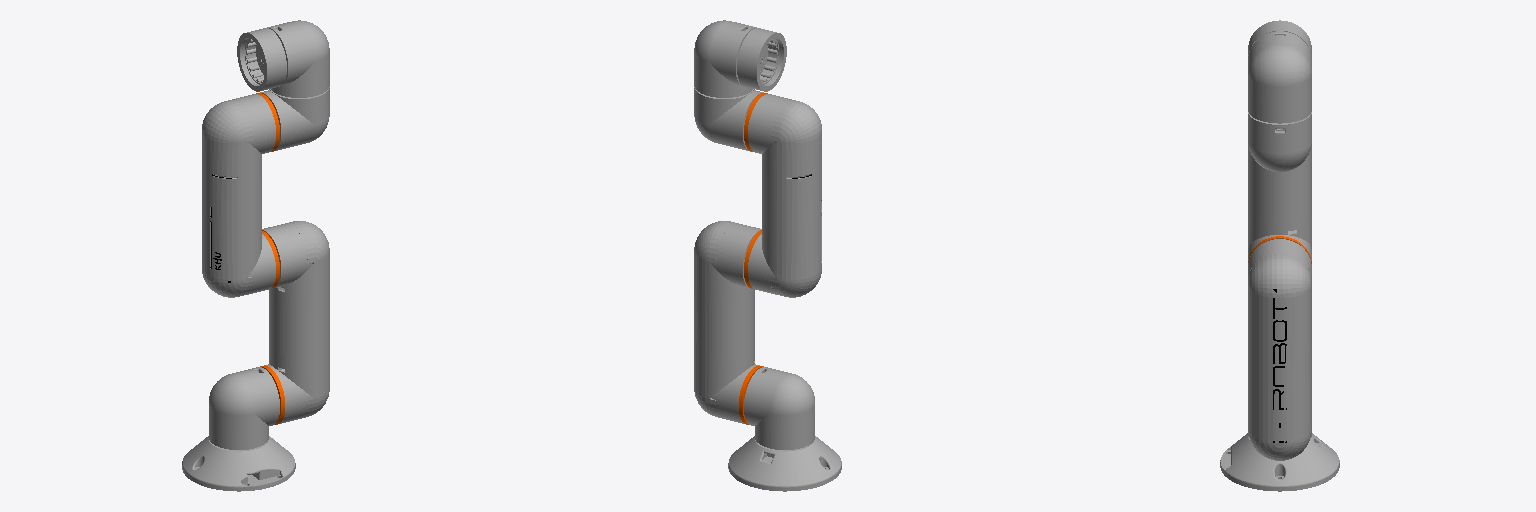
URDF robot description (6dof):
<?xml version="1.0" ?>
<robot name="6dof">
  <mujoco>
    <compiler meshdir="../meshes/" balanceinertia="true" discardvisual="false"/>
  </mujoco>


<material name="silver">
  <color rgba="0.700 0.700 0.700 1.000"/>
</material>

<material name="black">
  <color rgba="0.020 0.020 0.020 1.000"/>
</material>

<material name="orange">
  <color rgba="1.000 0.420 0.000 1.000"/>
</material>

<link name="base_link">
  <inertial>
    <origin xyz="0.0005722199975482752 0.004245800700454947 0.016568477430291967" rpy="0 0 0"/>
    <mass value="0.3701294923763933"/>
    <inertia ixx="0.000519" iyy="0.000543" izz="0.000945" ixy="3e-06" iyz="4e-06" ixz="0.0"/>
  </inertial>
  <visual>
    <origin xyz="0 0 0" rpy="0 0 0"/>
    <geometry>
      <mesh filename="base_link.stl" scale="0.001 0.001 0.001"/>
    </geometry>
    <material name="silver"/>
  </visual>
  <collision>
    <origin xyz="0 0 0" rpy="0 0 0"/>
    <geometry>
      <mesh filename="base_link.stl" scale="0.001 0.001 0.001"/>
    </geometry>
  </collision>
</link>

<link name="r_a_1">
  <inertial>
    <origin xyz="0.010425618761527602 0.0009926626669589911 0.03864859993028837" rpy="0 0 0"/>
    <mass value="0.17693816222578793"/>
    <inertia ixx="0.000227" iyy="0.000235" izz="0.00022" ixy="-1e-06" iyz="-1e-06" ixz="-2.3e-05"/>
  </inertial>
  <visual>
    <origin xyz="-0.0 -0.002984 -0.041554" rpy="0 0 0"/>
    <geometry>
      <mesh filename="r_a_1.stl" scale="0.001 0.001 0.001"/>
    </geometry>
    <material name="silver"/>
  </visual>
  <collision>
    <origin xyz="-0.0 -0.002984 -0.041554" rpy="0 0 0"/>
    <geometry>
      <mesh filename="r_a_1.stl" scale="0.001 0.001 0.001"/>
    </geometry>
  </collision>
</link>

<link name="link_1">
  <inertial>
    <origin xyz="0.0362299468747642 1.3495541677207516e-05 0.10093907219024545" rpy="0 0 0"/>
    <mass value="0.42379993240155933"/>
    <inertia ixx="0.003229" iyy="0.003244" izz="0.000556" ixy="0.0" iyz="0.0" ixz="4.5e-05"/>
  </inertial>
  <visual>
    <origin xyz="-0.04 -0.002984 -0.092054" rpy="0 0 0"/>
    <geometry>
      <mesh filename="link_1_engraved.stl" scale="0.001 0.001 0.001"/>
    </geometry>
    <material name="silver"/>
  </visual>
  <visual>
    <origin xyz="-0.04 -0.002984 -0.092054" rpy="0 0 0"/>
    <geometry>
      <mesh filename="link_1_engraving.stl" scale="0.001 0.001 0.001"/>
    </geometry>
    <material name="black"/>
  </visual>
  <visual>
    <origin xyz="-0.04 -0.002984 -0.092054" rpy="0 0 0"/>
    <geometry>
      <mesh filename="link_1_ring.stl" scale="0.001 0.001 0.001"/>
    </geometry>
    <material name="orange"/>
  </visual>
  <collision>
    <origin xyz="-0.04 -0.002984 -0.092054" rpy="0 0 0"/>
    <geometry>
      <mesh filename="link_1_engraved.stl" scale="0.001 0.001 0.001"/>
    </geometry>
  </collision>
  <collision>
    <origin xyz="-0.04 -0.002984 -0.092054" rpy="0 0 0"/>
    <geometry>
      <mesh filename="link_1_ring.stl" scale="0.001 0.001 0.001"/>
    </geometry>
  </collision>
</link>

<link name="link__1__1">
  <inertial>
    <origin xyz="-0.03622994687477521 -1.3274643730027368e-05 0.10093907219023918" rpy="0 0 0"/>
    <mass value="0.42379993240155933"/>
    <inertia ixx="0.003229" iyy="0.003244" izz="0.000556" ixy="0.0" iyz="-0.0" ixz="-4.5e-05"/>
  </inertial>
  <visual>
    <origin xyz="-0.04 -0.002984 -0.292054" rpy="0 0 0"/>
    <geometry>
      <mesh filename="link__1__1_engraved.stl" scale="0.001 0.001 0.001"/>
    </geometry>
    <material name="silver"/>
  </visual>
  <visual>
    <origin xyz="-0.04 -0.002984 -0.292054" rpy="0 0 0"/>
    <geometry>
      <mesh filename="link__1__1_engraving.stl" scale="0.001 0.001 0.001"/>
    </geometry>
    <material name="black"/>
  </visual>
  <visual>
    <origin xyz="-0.04 -0.002984 -0.292054" rpy="0 0 0"/>
    <geometry>
      <mesh filename="link__1__1_ring.stl" scale="0.001 0.001 0.001"/>
    </geometry>
    <material name="orange"/>
  </visual>
  <collision>
    <origin xyz="-0.04 -0.002984 -0.292054" rpy="0 0 0"/>
    <geometry>
      <mesh filename="link__1__1_engraved.stl" scale="0.001 0.001 0.001"/>
    </geometry>
  </collision>
  <collision>
    <origin xyz="-0.04 -0.002984 -0.292054" rpy="0 0 0"/>
    <geometry>
      <mesh filename="link__1__1_ring.stl" scale="0.001 0.001 0.001"/>
    </geometry>
  </collision>
</link>

<link name="r_a__1__1">
  <inertial>
    <origin xyz="0.03864887449338581 -0.0009924417690017292 0.010425344198421005" rpy="0 0 0"/>
    <mass value="0.17693816222578793"/>
    <inertia ixx="0.00022" iyy="0.000235" izz="0.000227" ixy="1e-06" iyz="1e-06" ixz="-2.3e-05"/>
  </inertial>
  <visual>
    <origin xyz="-0.04 -0.002984 -0.492054" rpy="0 0 0"/>
    <geometry>
      <mesh filename="r_a__1__1.stl" scale="0.001 0.001 0.001"/>
    </geometry>
    <material name="silver"/>
  </visual>
  <collision>
    <origin xyz="-0.04 -0.002984 -0.492054" rpy="0 0 0"/>
    <geometry>
      <mesh filename="r_a__1__1.stl" scale="0.001 0.001 0.001"/>
    </geometry>
  </collision>
</link>

<link name="r_a__2__1">
  <inertial>
    <origin xyz="-0.010425618761524535 -0.0009924417689934207 0.03864859993027925" rpy="0 0 0"/>
    <mass value="0.17693816222578793"/>
    <inertia ixx="0.000227" iyy="0.000235" izz="0.00022" ixy="-1e-06" iyz="1e-06" ixz="2.3e-05"/>
  </inertial>
  <visual>
    <origin xyz="-0.0905 -0.002984 -0.532054" rpy="0 0 0"/>
    <geometry>
      <mesh filename="r_a__2__1.stl" scale="0.001 0.001 0.001"/>
    </geometry>
    <material name="silver"/>
  </visual>
  <collision>
    <origin xyz="-0.0905 -0.002984 -0.532054" rpy="0 0 0"/>
    <geometry>
      <mesh filename="r_a__2__1.stl" scale="0.001 0.001 0.001"/>
    </geometry>
  </collision>
</link>

<link name="housing_1">
  <inertial>
    <origin xyz="-0.01354229215039466 1.104489911183705e-07 -2.74563103364045e-07" rpy="0 0 0"/>
    <mass value="0.07053541004202112"/>
    <inertia ixx="8.5e-05" iyy="4.8e-05" izz="4.8e-05" ixy="-0.0" iyz="-0.0" ixz="0.0"/>
  </inertial>
  <visual>
    <origin xyz="-0.0505 -0.002984 -0.582554" rpy="0 0 0"/>
    <geometry>
      <mesh filename="housing_1.stl" scale="0.001 0.001 0.001"/>
    </geometry>
    <material name="silver"/>
  </visual>
  <collision>
    <origin xyz="-0.0505 -0.002984 -0.582554" rpy="0 0 0"/>
    <geometry>
      <mesh filename="housing_1.stl" scale="0.001 0.001 0.001"/>
    </geometry>
  </collision>
</link>

<joint name="Revolute_1" type="revolute">
  <origin xyz="0.0 0.002984 0.043554" rpy="0 0 0"/>
  <parent link="base_link"/>
  <child link="r_a_1"/>
  <axis xyz="0.0 0.0 1.0"/>
  <limit lower="-3.14159" upper="3.14159" effort="10.0" velocity="3.0"/>
</joint>

<joint name="Revolute_2" type="revolute">
  <origin xyz="0.042 0.0 0.0505" rpy="0 0 0"/>
  <parent link="r_a_1"/>
  <child link="link_1"/>
  <axis xyz="1.0 0.0 0.0"/>
  <limit lower="-3.14159" upper="3.14159" effort="10.0" velocity="3.0"/>
</joint>

<joint name="Revolute_3" type="revolute">
  <origin xyz="-0.002 0.0 0.2" rpy="0 0 0"/>
  <parent link="link_1"/>
  <child link="link__1__1"/>
  <axis xyz="-1.0 0.0 0.0"/>
  <limit lower="-3.14159" upper="3.14159" effort="10.0" velocity="3.0"/>
</joint>

<joint name="Revolute_4" type="revolute">
  <origin xyz="0.002 0.0 0.2" rpy="0 0 0"/>
  <parent link="link__1__1"/>
  <child link="r_a__1__1"/>
  <axis xyz="1.0 -0.0 -0.0"/>
  <limit lower="-3.14159" upper="3.14159" effort="10.0" velocity="3.0"/>
</joint>

<joint name="Revolute_5" type="revolute">
  <origin xyz="0.0505 0.0 0.042" rpy="0 0 0"/>
  <parent link="r_a__1__1"/>
  <child link="r_a__2__1"/>
  <axis xyz="0.0 0.0 1.0"/>
  <limit lower="-3.14159" upper="3.14159" effort="10.0" velocity="3.0"/>
</joint>

<joint name="Revolute_6" type="revolute">
  <origin xyz="-0.042 0.0 0.0505" rpy="0 0 0"/>
  <parent link="r_a__2__1"/>
  <child link="housing_1"/>
  <axis xyz="-1.0 0.0 -0.0"/>
  <limit lower="-3.14159" upper="3.14159" effort="10.0" velocity="3.0"/>
</joint>

</robot>

--- Render facts (derived) ---
3 views of the same robot in one strip: view 1: azimuth 30°, elevation 25°; view 2: azimuth 150°, elevation 25°; view 3: azimuth 270°, elevation 25° (orthographic).
Robot: 6dof — 7 links, 6 joints (6 revolute); root link base_link; default pose: all joints at 0.
Links seen in each view (by area): view 1: link__1__1, link_1, r_a_1, base_link, r_a__2__1, r_a__1__1, housing_1; view 2: link__1__1, link_1, r_a_1, base_link, r_a__2__1, r_a__1__1, housing_1; view 3: link_1, r_a__2__1, link__1__1, base_link, r_a__1__1, housing_1.
Link boxes in pixels (x1,y1,x2,y2): link__1__1: (202, 93, 279, 297); link_1: (260, 221, 329, 424); r_a_1: (209, 367, 279, 449); base_link: (182, 436, 295, 491); r_a__2__1: (258, 20, 329, 97); r_a__1__1: (260, 87, 329, 151); housing_1: (237, 28, 286, 91); link__1__1: (744, 93, 821, 297); link_1: (694, 221, 763, 424); r_a_1: (744, 367, 814, 449); base_link: (728, 436, 841, 491); r_a__2__1: (694, 20, 765, 97); r_a__1__1: (694, 87, 763, 151); housing_1: (737, 28, 786, 91); link_1: (1248, 239, 1311, 460); r_a__2__1: (1248, 31, 1311, 123); link__1__1: (1248, 129, 1311, 263); base_link: (1220, 433, 1339, 491); r_a__1__1: (1248, 112, 1311, 171); housing_1: (1248, 20, 1311, 55).
Bounding box of the posed robot: 0.2077 × 0.15 × 0.627 m (x, y, z).
11 mesh visuals loaded from 11 distinct referenced files (11 binary STL).
